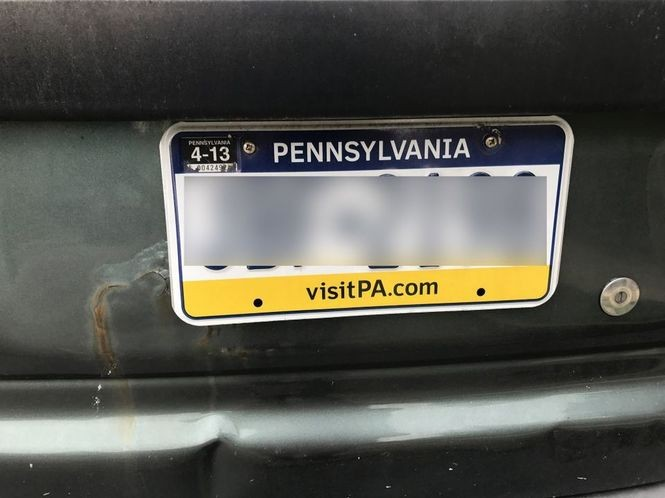license plate: (177, 121, 564, 328)
